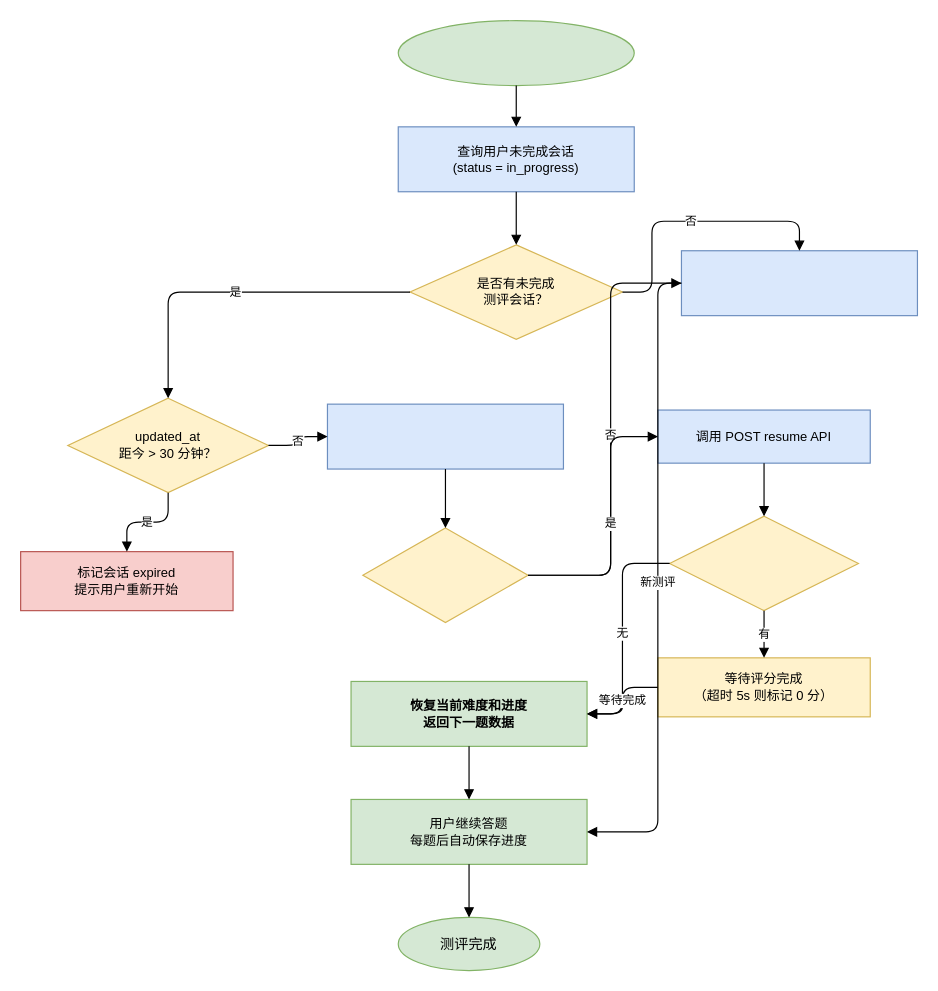
This 938x991 diagram has some shape labels left out. The shapes that lost their labels are listed below. From the top down, each one's centre as x and y in pixels, then its label:
pixel 515 52: 前端加载测评页面 调用 check API
pixel 798 283: 创建新 assessment_session 开始新测评
pixel 444 436: 返回会话信息 (session_id + 已答题数)
pixel 445 574: 用户是否选择 恢复测评？
pixel 763 563: 有口语题 status=scoring？
